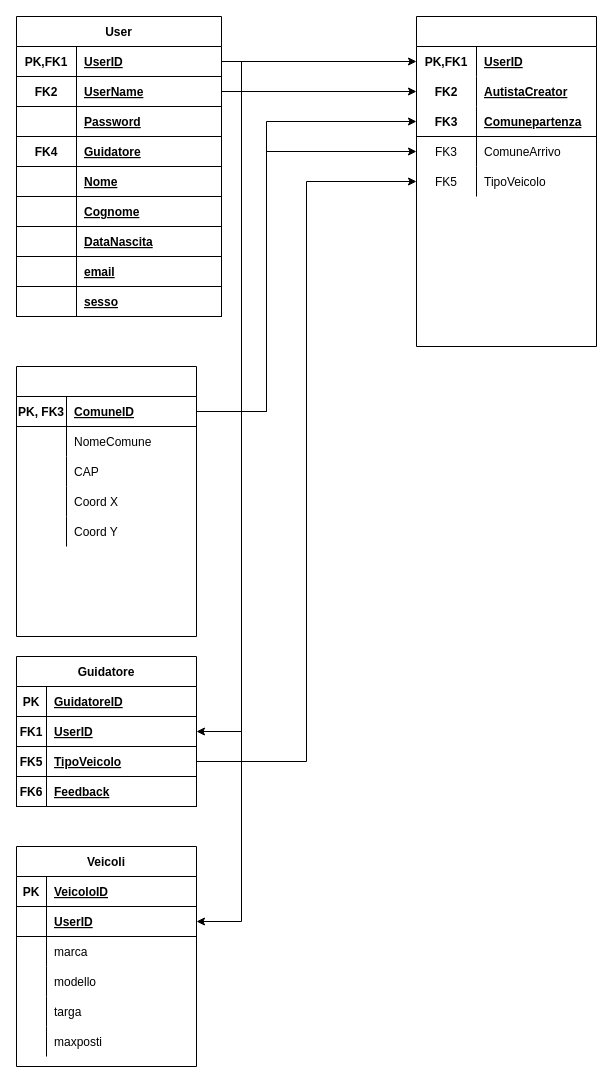
Image size: 613x1083. Some labels were removed from this diagram. Each missing label, with the box of its shape:
ElencoComuni: (16, 366, 196, 636)
Viaggio: (416, 16, 596, 346)
